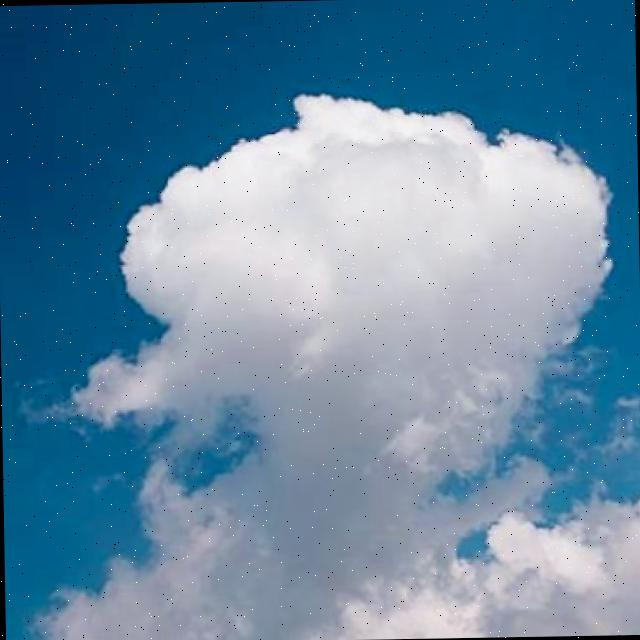Ac: (14, 65, 640, 640)
